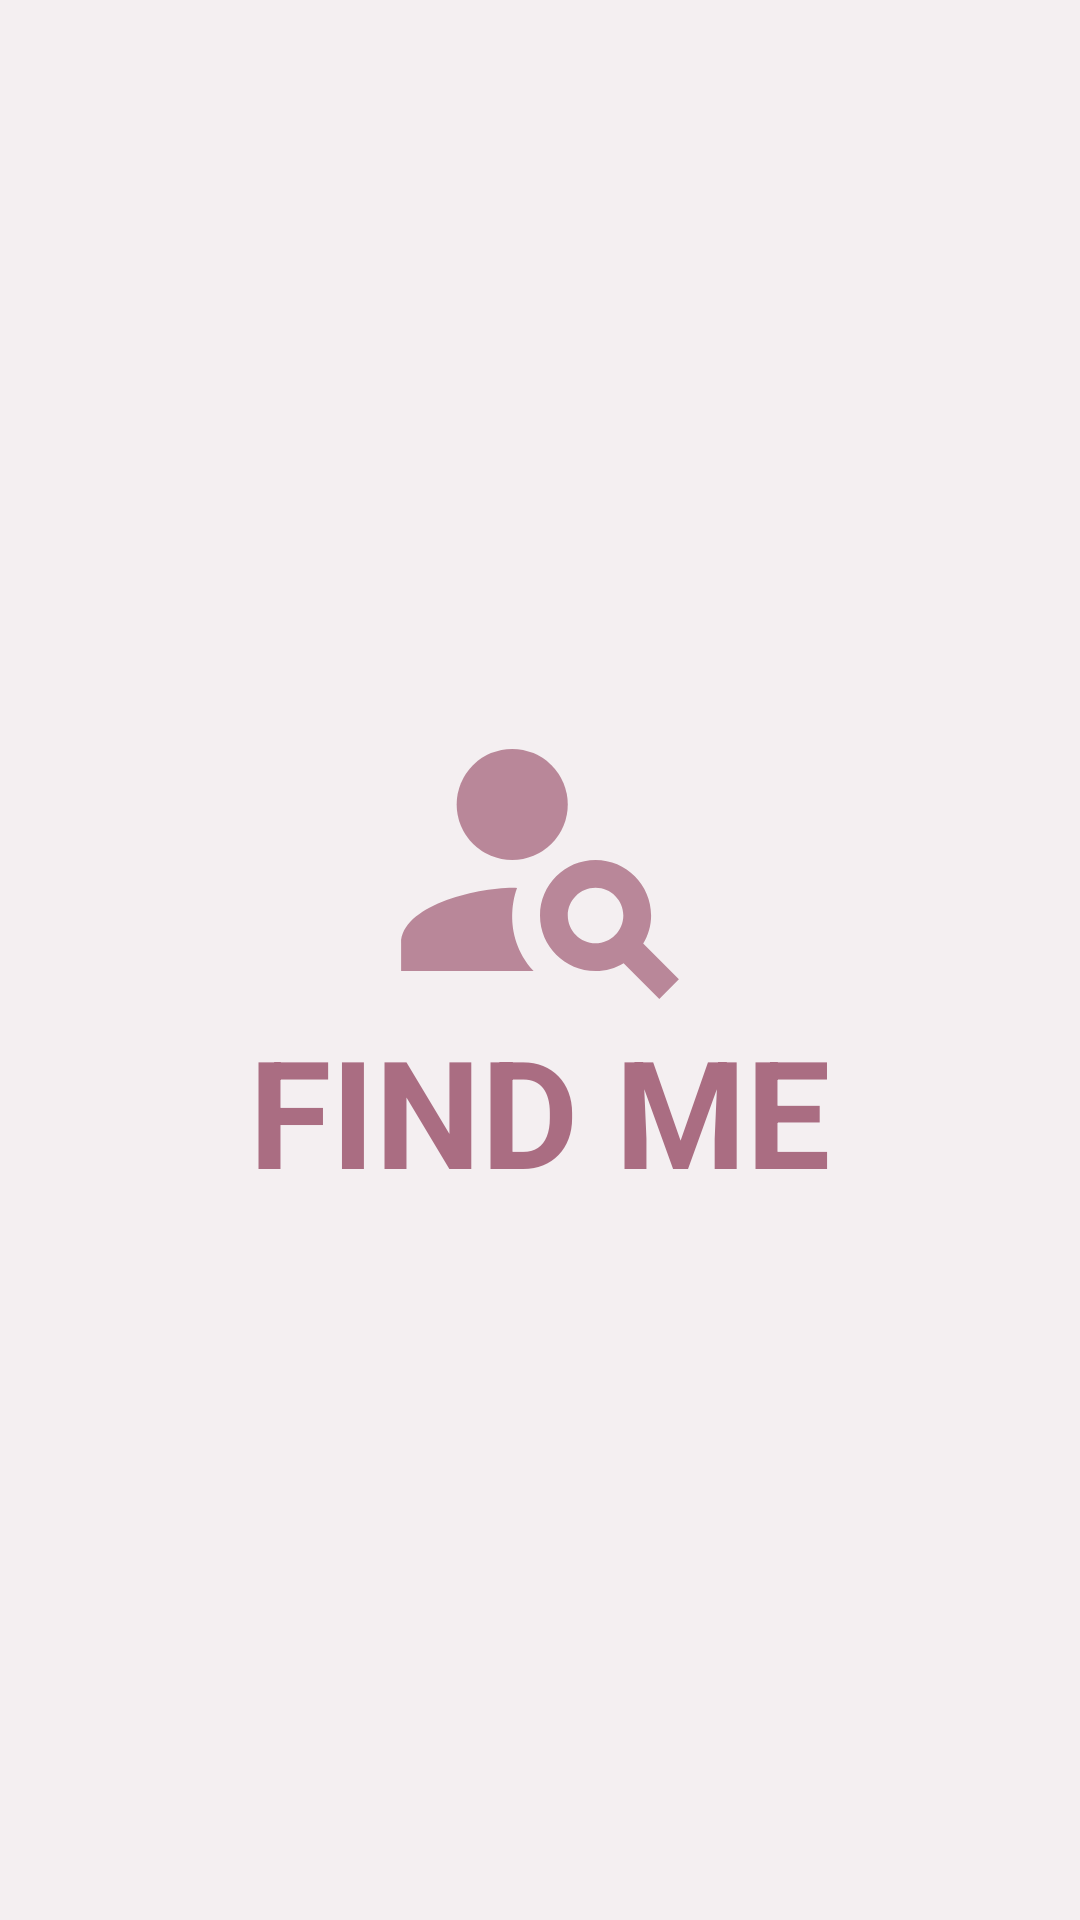

Locate icon controls on the screen. Image size 1080 x 1920, boxes as rect(x1, y1, x2, y2).
personsearch: rect(401, 749, 679, 999)
